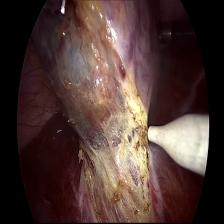Hook: (134, 111, 212, 182)
